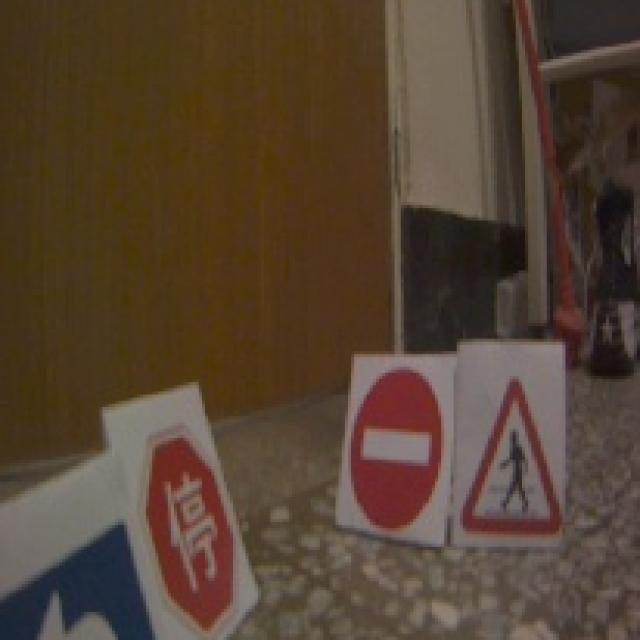DoNotEnterSign: (351, 365, 444, 530)
